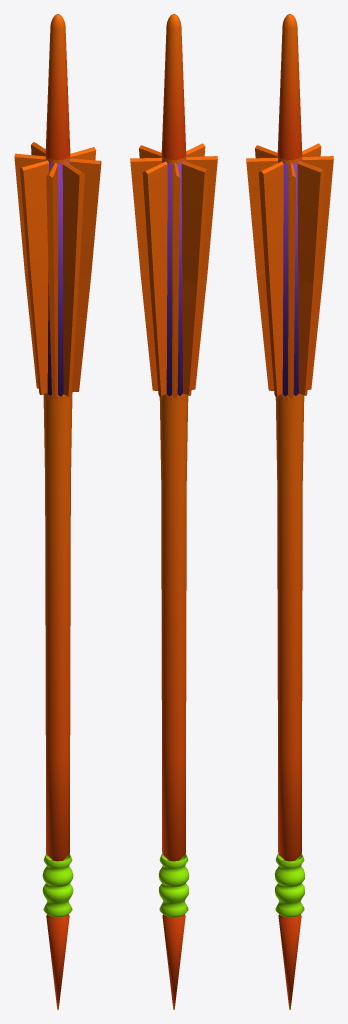
The model's file is yaka_arrow.fbx.
3 renders of one model, left to right at view 1: azimuth 90°, elevation 25°; view 2: azimuth 150°, elevation 25°; view 3: azimuth 330°, elevation 25°, orthographic.
Parts seen in each view (by area): view 1: Cylinder.002; view 2: Cylinder.002; view 3: Cylinder.002.
Part boxes in pixels (x1,y1,x2,y2): Cylinder.002: (14,14,101,1009); Cylinder.002: (130,14,217,1009); Cylinder.002: (246,14,333,1009).
Bounding box in the file's own units: 30.81 × 388 × 30.81.
